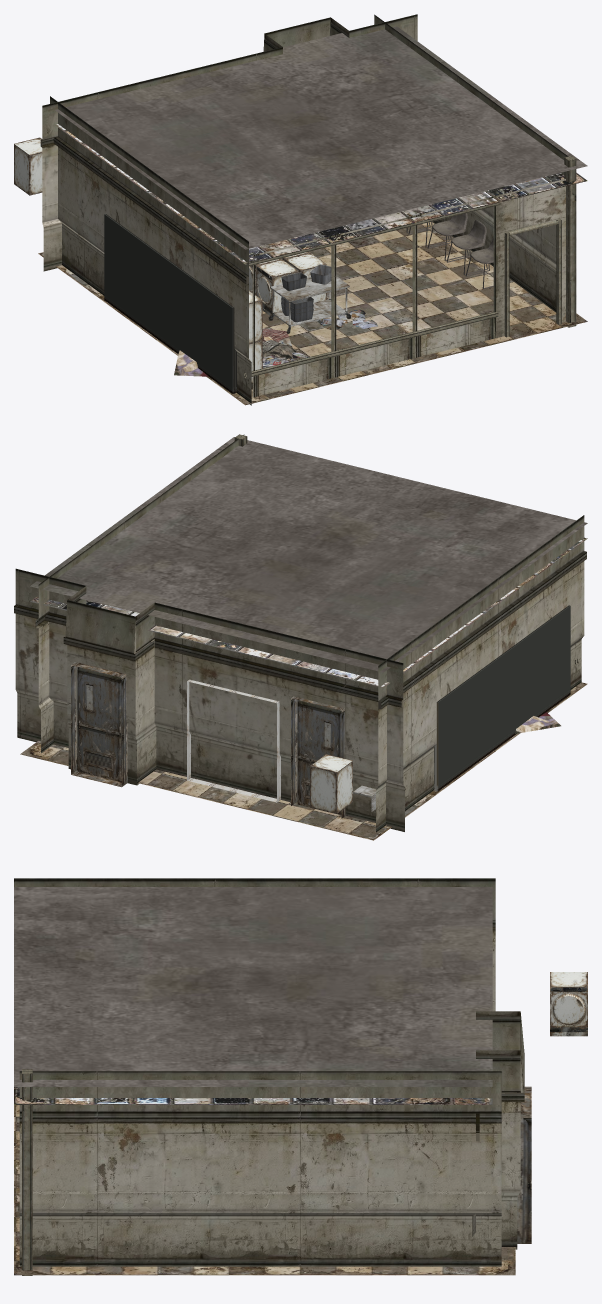
File: прачечная скетчфаб.fbx
3 renders of one model, top to bottom at view 1: azimuth 30°, elevation 25°; view 2: azimuth 150°, elevation 25°; view 3: azimuth 270°, elevation 25°, orthographic. The views are drawn at different scales.
Parts seen in each view (by area): view 1: Plane.007, Plane.001, Plane, Cube.002, Cube.032, Plane.006, Plane.005, Cube.034, Cube.031, Cylinder, Cube.033, Cube.004 (+6 smaller); view 2: Plane.007, Plane.006, Plane.001, Cube.002, Cube.030, Plane, Cube.022, Plane.005, Cube.004, Cube.029; view 3: Plane.007, Plane.001, Plane, Plane.006, Plane.005, Cube.033, Cube.030, Cube.004, Cube.003.
Part boxes in pixels (<box>): Plane.007: <box>55,26,587,249</box>; Plane.001: <box>50,14,576,405</box>; Plane: <box>38,222,587,405</box>; Cube.002: <box>104,214,252,393</box>; Cube.032: <box>252,179,565,397</box>; Plane.006: <box>40,14,417,271</box>; Plane.005: <box>54,124,587,264</box>; Cube.034: <box>244,203,561,378</box>; Cube.031: <box>406,213,493,288</box>; Cylinder: <box>268,276,351,333</box>; Cube.033: <box>564,155,576,327</box>; Cube.004: <box>14,137,42,195</box>; Plane.007: <box>30,437,587,672</box>; Plane.006: <box>14,568,404,831</box>; Plane.001: <box>35,434,586,832</box>; Cube.002: <box>434,605,570,791</box>; Cube.030: <box>71,662,127,787</box>; Plane: <box>20,682,587,840</box>; Cube.022: <box>291,696,345,818</box>; Plane.005: <box>30,537,587,687</box>; Cube.004: <box>310,754,352,813</box>; Cube.029: <box>187,679,280,802</box>; Plane.007: <box>14,887,492,1086</box>; Plane.001: <box>14,878,501,1266</box>; Plane: <box>14,1105,515,1275</box>; Plane.006: <box>472,1011,524,1249</box>; Plane.005: <box>14,1087,492,1104</box>; Cube.033: <box>22,1069,32,1275</box>; Cube.030: <box>517,1086,531,1243</box>; Cube.004: <box>550,972,587,1036</box>; Cube.003: <box>552,993,585,1024</box>.
Size of the model in its own units: 1725 by 718 by 1835.
10 materials, 10 textured.
